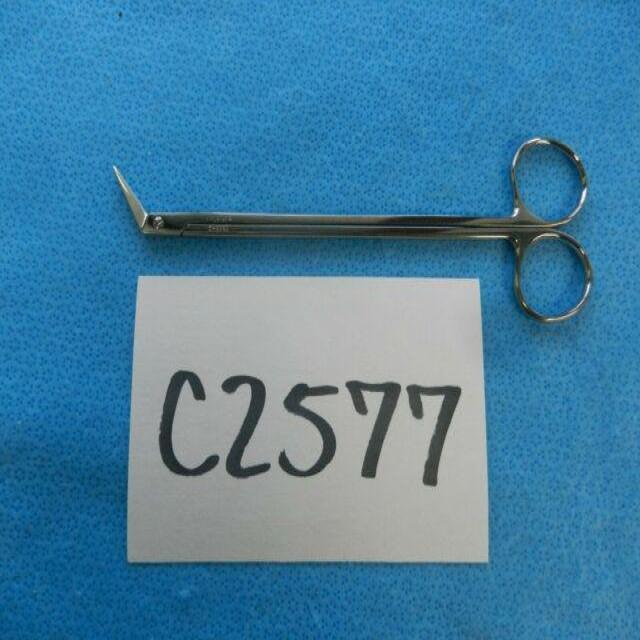Potts: (109, 124, 599, 334)
